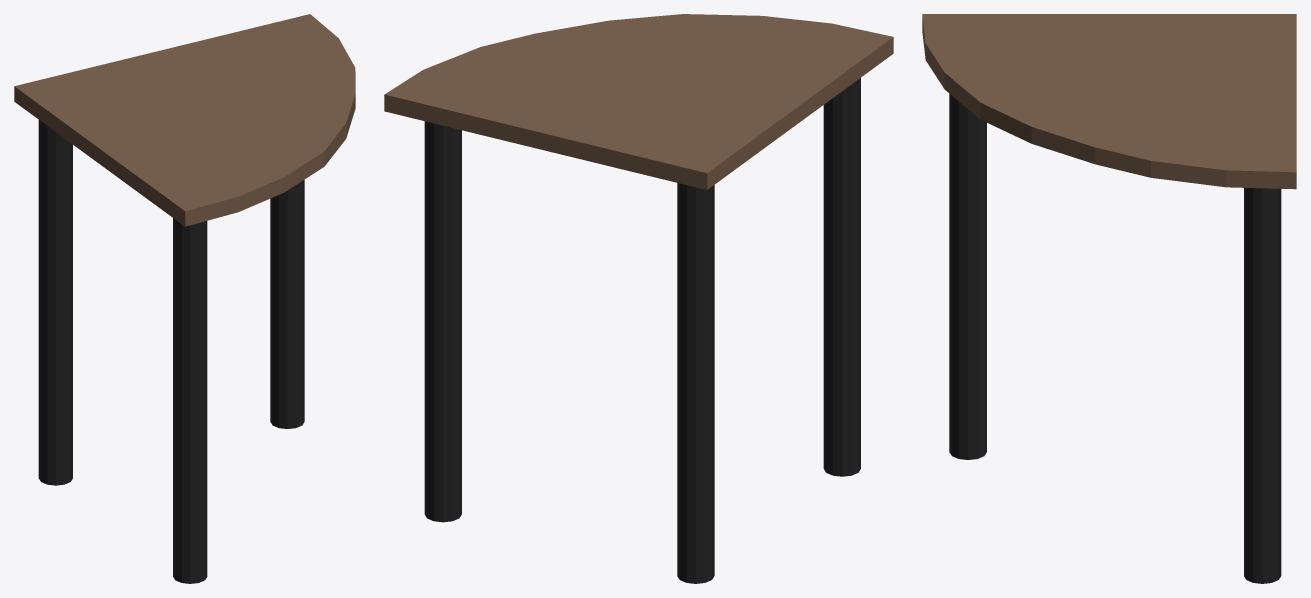
The model's file is table_cody.fbx.
The picture shows the model from 3 angles, left to right: view 1: azimuth 30°, elevation 25°; view 2: azimuth 150°, elevation 25°; view 3: azimuth 270°, elevation 25°; orthographic projection. The views are drawn at different scales.
Parts seen in each view (by area): view 1: Cylinder.002; view 2: Cylinder.002; view 3: Cylinder.002.
Part boxes in pixels (bbox=[...]): Cylinder.002: bbox=[14, 14, 355, 583]; Cylinder.002: bbox=[384, 14, 893, 583]; Cylinder.002: bbox=[922, 14, 1296, 583].
Bounding box in the file's own units: 60 × 75 × 60.
